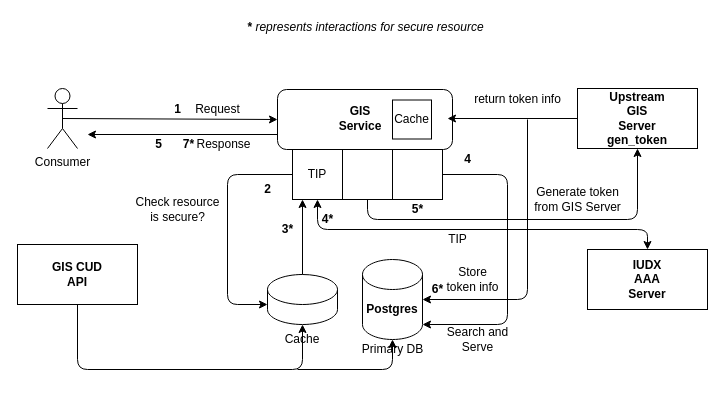
This 725x395 diagram has some shape labels left out. Each missing label, with the box of its shape:
DB: (392, 148, 442, 200)
HTTPS Client: (342, 148, 392, 200)
Redis: (266, 274, 338, 324)
